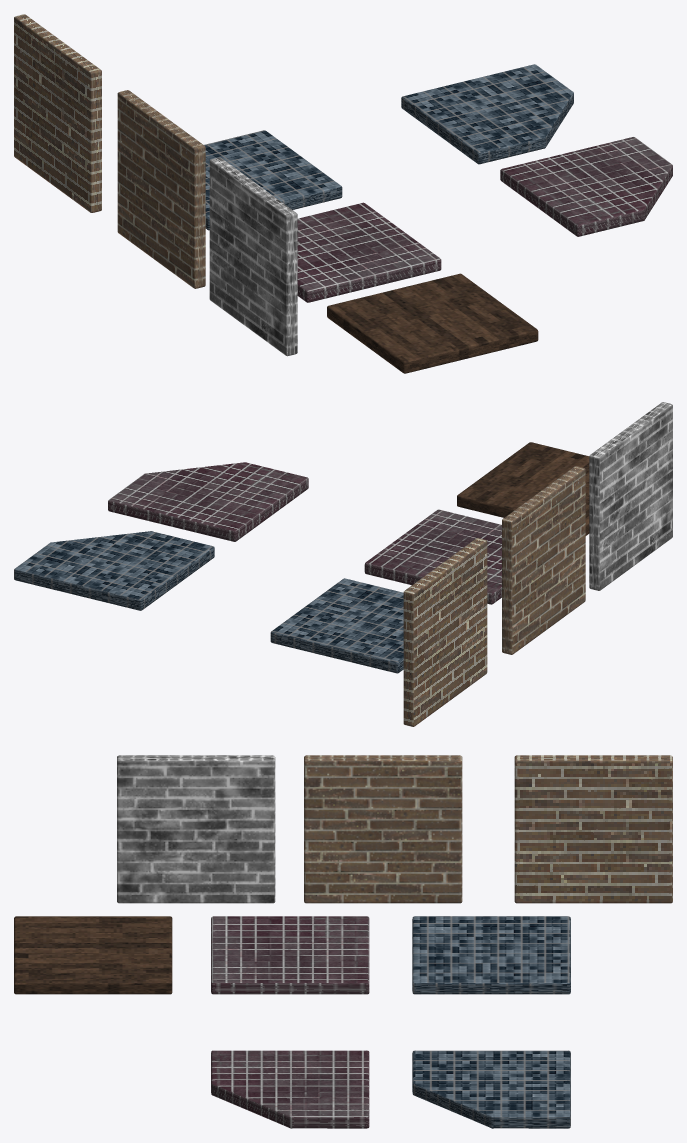
File: Tileset.fbx
3 renders of one model, top to bottom at view 1: azimuth 30°, elevation 25°; view 2: azimuth 150°, elevation 25°; view 3: azimuth 270°, elevation 25°, orthographic. The views are drawn at different scales.
Parts seen in each view (by area): view 1: brickwall.001, brickwall, brickwall.002, woodenfloor, bathroom walls edged, bathroom tiles edged, bathroom tiles, bathroom walls; view 2: brickwall.002, brickwall.001, brickwall, bathroom tiles edged, bathroom walls edged, bathroom walls, bathroom tiles, woodenfloor; view 3: brickwall, brickwall.001, brickwall.002, bathroom walls, bathroom tiles, woodenfloor, bathroom tiles edged, bathroom walls edged.
Part boxes in pixels (x1=…): brickwall.001: x1=209, y1=157, x2=297, y2=356; brickwall: x1=117, y1=90, x2=205, y2=288; brickwall.002: x1=14, y1=14, x2=101, y2=212; woodenfloor: x1=327, y1=273, x2=538, y2=373; bathroom walls edged: x1=401, y1=64, x2=573, y2=164; bathroom tiles edged: x1=500, y1=137, x2=672, y2=236; bathroom tiles: x1=297, y1=202, x2=441, y2=302; bathroom walls: x1=204, y1=130, x2=342, y2=230; brickwall.002: x1=403, y1=538, x2=487, y2=726; brickwall.001: x1=589, y1=402, x2=672, y2=590; brickwall: x1=502, y1=466, x2=585, y2=654; bathroom tiles edged: x1=108, y1=462, x2=308, y2=541; bathroom walls edged: x1=14, y1=531, x2=214, y2=610; bathroom walls: x1=270, y1=578, x2=403, y2=673; bathroom tiles: x1=364, y1=509, x2=501, y2=604; woodenfloor: x1=457, y1=442, x2=589, y2=535; brickwall: x1=304, y1=755, x2=462, y2=903; brickwall.001: x1=117, y1=755, x2=275, y2=903; brickwall.002: x1=514, y1=755, x2=672, y2=903; bathroom walls: x1=412, y1=916, x2=570, y2=994; bathroom tiles: x1=211, y1=916, x2=369, y2=994; woodenfloor: x1=14, y1=916, x2=172, y2=994; bathroom tiles edged: x1=211, y1=1050, x2=369, y2=1128; bathroom walls edged: x1=412, y1=1050, x2=570, y2=1128.
Size of the model in its own units: 700 by 200 by 832.
